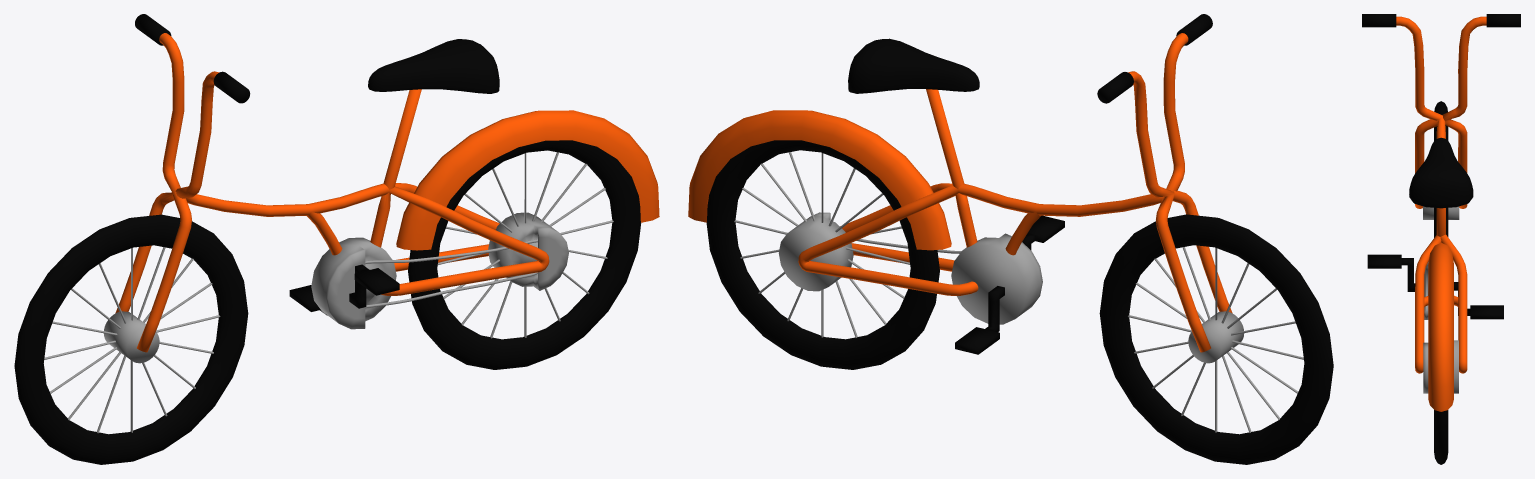
File: BikeOrange.fbx
3 views of the same model, side by side, from view 1: azimuth 30°, elevation 25°; view 2: azimuth 150°, elevation 25°; view 3: azimuth 270°, elevation 25° (orthographic). The views are drawn at different scales.
Visible parts, largest first — view 1: Tire_Cover; view 2: Tire_Cover; view 3: Tire_Cover.
Boxes of the visible parts, bbox=[...] form: Tire_Cover: bbox=[14, 14, 659, 464]; Tire_Cover: bbox=[688, 14, 1333, 464]; Tire_Cover: bbox=[1362, 14, 1520, 464].
Bounding box in the file's own units: 253 × 149 × 68.44.
